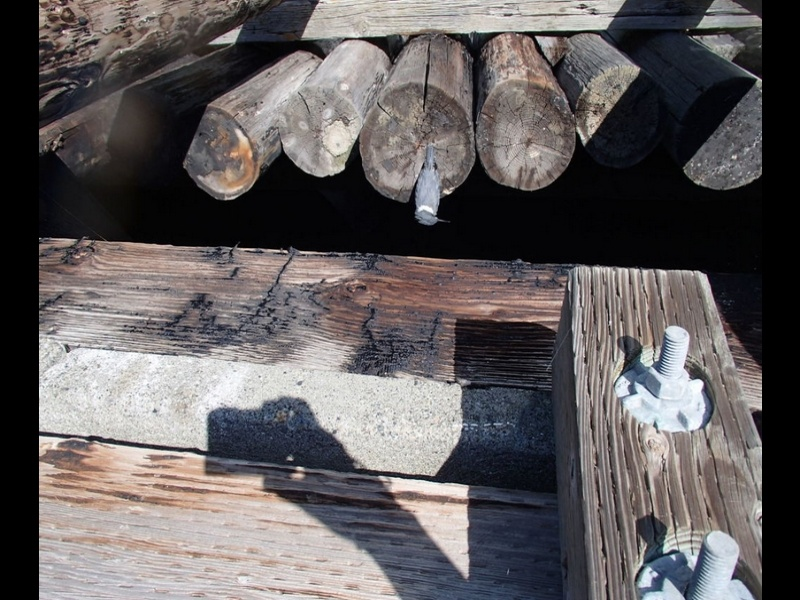kingfisher: (412, 145, 448, 230)
